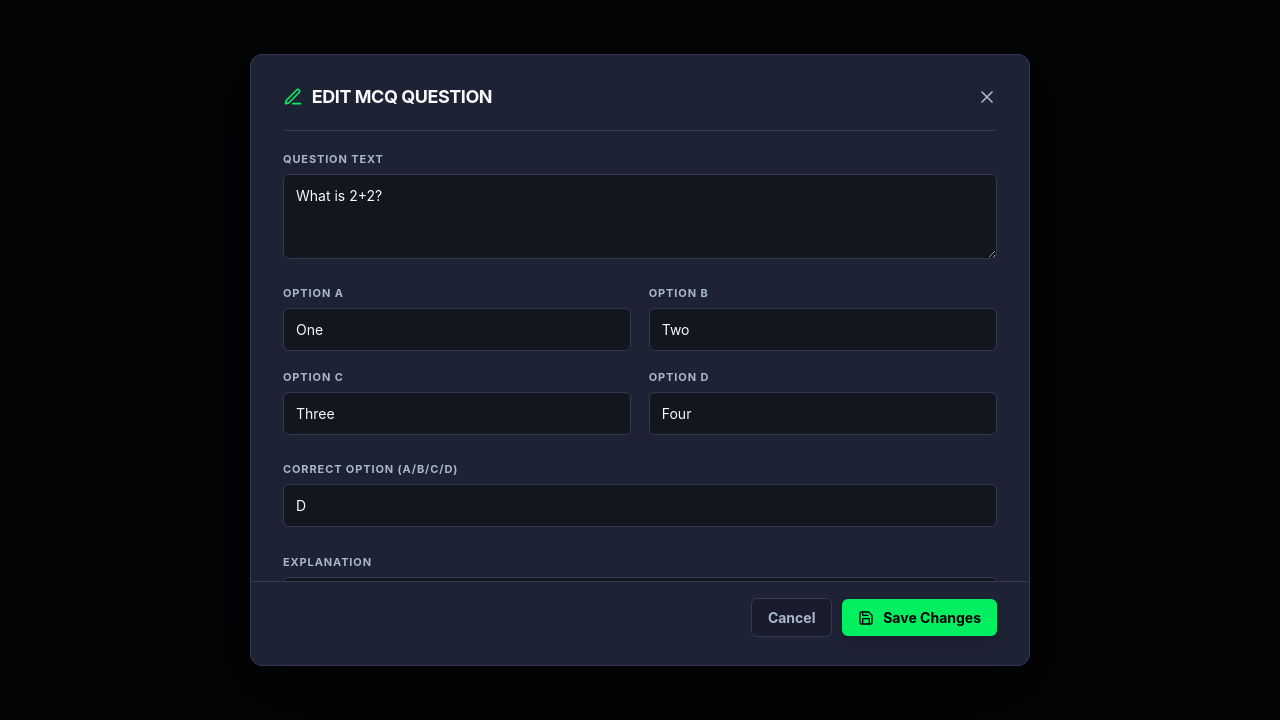
Test: EditQuestionModal › shows error message when save fails
Expected: the text "Failed to save" is not shown
What coordinates should you click on to do the following:
click the button "Save Changes"
I would click on:
 (920, 618)
Its box is [842,599,997,636].
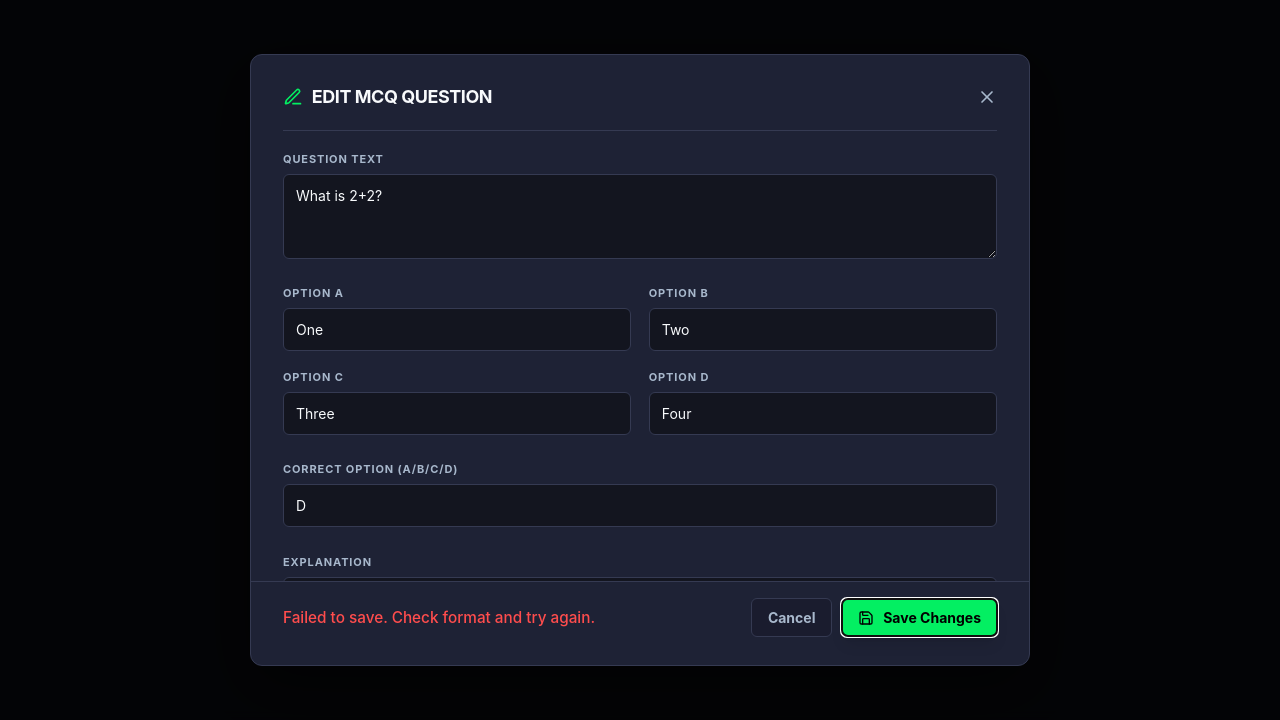
Expected: the text "Failed to save. Check format and try again." is shown, [283,607,595,628]
